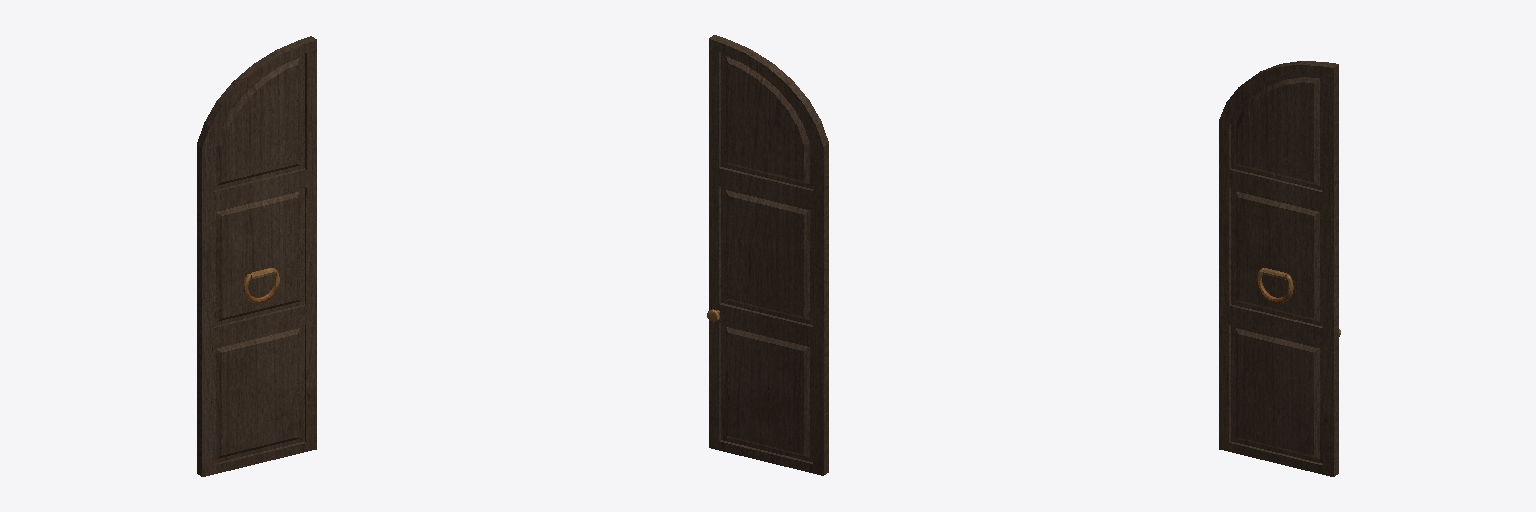
The picture shows the model from 3 angles: view 1: azimuth 30°, elevation 25°; view 2: azimuth 150°, elevation 25°; view 3: azimuth 330°, elevation 25°; orthographic projection.
Parts seen in each view (by area): view 1: Main_Door_Left; view 2: Main_Door_Left; view 3: Main_Door_Left.
Boxes of the visible parts, box(x1,y1,x2,y2) form: Main_Door_Left: box(197, 36, 316, 476); Main_Door_Left: box(707, 35, 828, 475); Main_Door_Left: box(1219, 61, 1340, 476).
Size of the model in its own units: 67.89 by 231 by 13.44.
1 materials, 1 textured.